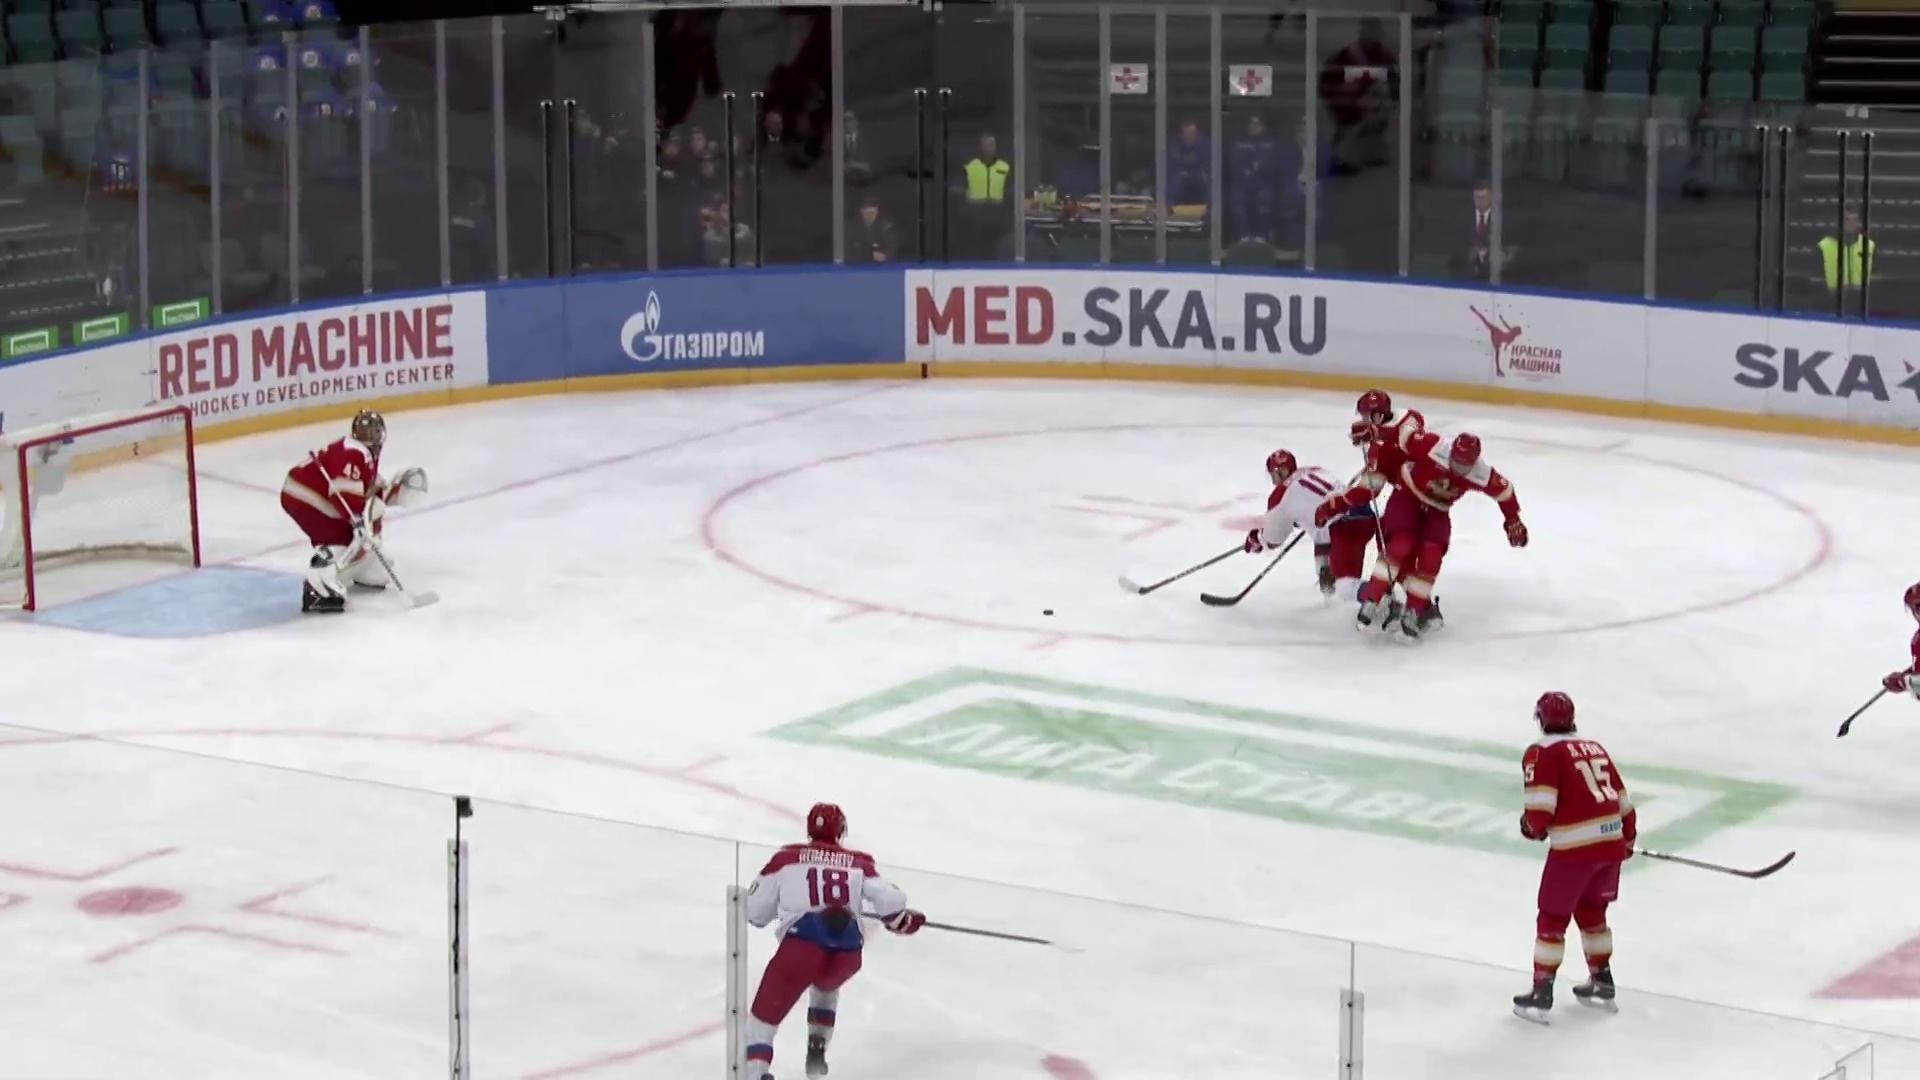ball: (1038, 607, 1059, 620)
